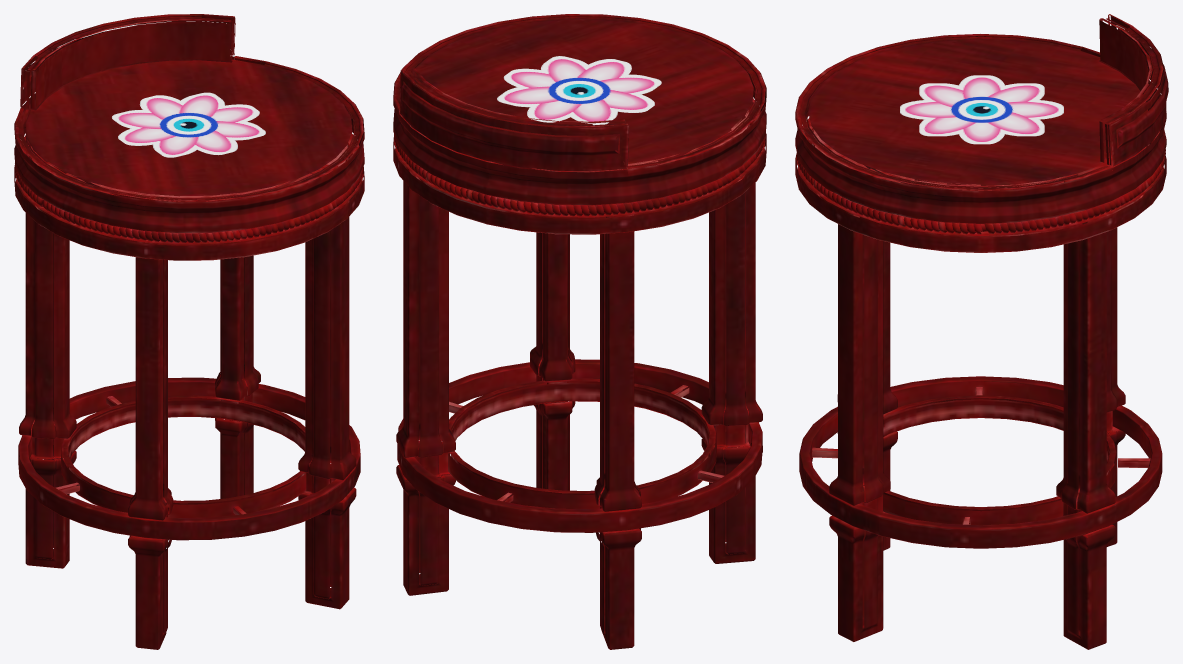
Rendered from nyb_mean_stool.glb.
3 views of the same model, side by side, from view 1: azimuth 30°, elevation 25°; view 2: azimuth 150°, elevation 25°; view 3: azimuth 270°, elevation 25° (orthographic). The views are drawn at different scales.
Parts seen in each view (by area): view 1: bar_chair_round_01, stk_eyeflower_die.png; view 2: bar_chair_round_01, stk_eyeflower_die.png; view 3: bar_chair_round_01, stk_eyeflower_die.png.
Boxes of the visible parts, x1,y1,x2,y2 form: bar_chair_round_01: (14,14,364,649); stk_eyeflower_die.png: (112,92,265,157); bar_chair_round_01: (393,14,766,649); stk_eyeflower_die.png: (497,56,661,125); bar_chair_round_01: (795,14,1168,649); stk_eyeflower_die.png: (900,75,1063,144).
Bounding box in the file's own units: 0.4831 × 0.7505 × 0.486.
2 materials, 2 textured.
